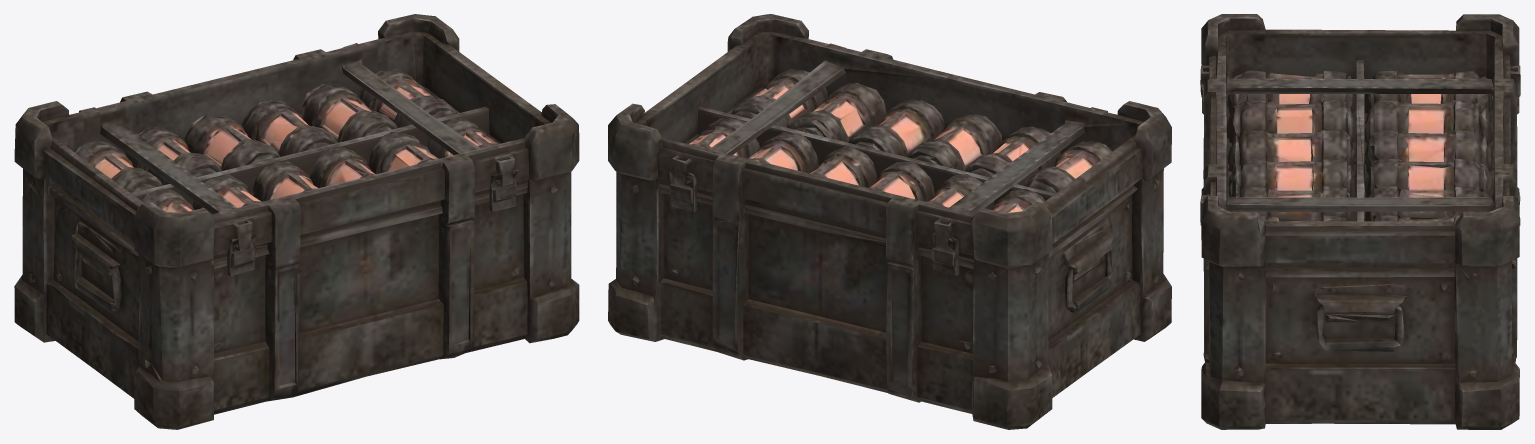
File: node.fuel_deposit.glb
3 renders of one model, left to right at view 1: azimuth 30°, elevation 25°; view 2: azimuth 150°, elevation 25°; view 3: azimuth 270°, elevation 25°, orthographic.
Visible parts, largest first — view 1: body; view 2: body; view 3: body.
Boxes of the visible parts, left/top/right/bottom form: body: left=14, top=14, right=579, bottom=429; body: left=608, top=14, right=1171, bottom=429; body: left=1200, top=14, right=1520, bottom=429.
Size of the model in its own units: 1.4 by 0.6672 by 0.9043.
Materials: 1 (1 with a texture image).
